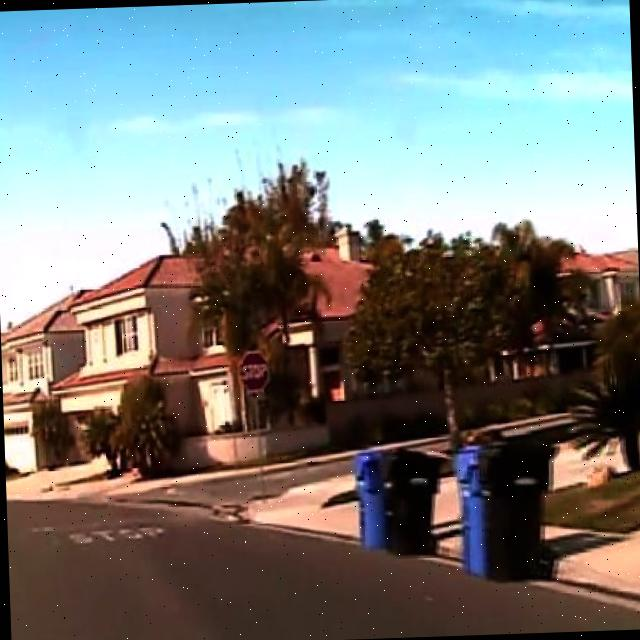Stop: (236, 346, 272, 396)
